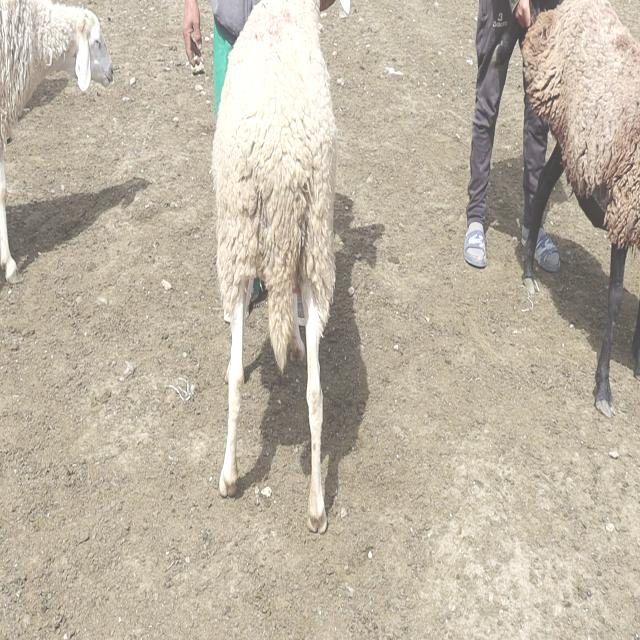Score_3: (212, 0, 337, 533)
